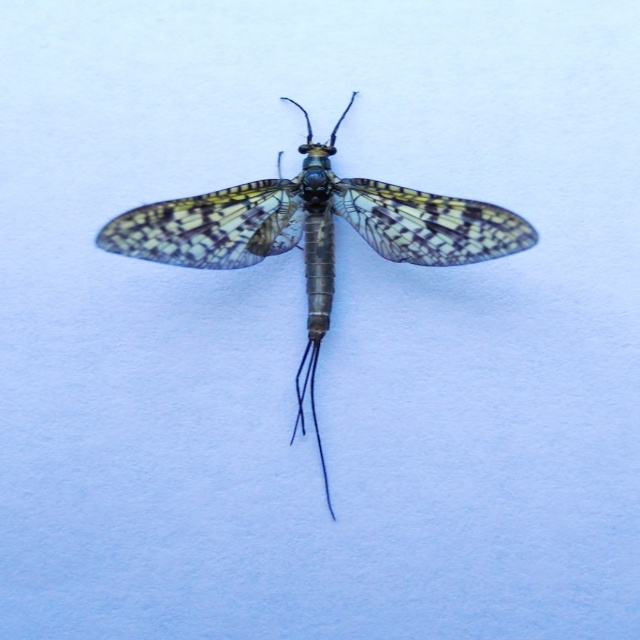Butterfly: (112, 75, 532, 477)
